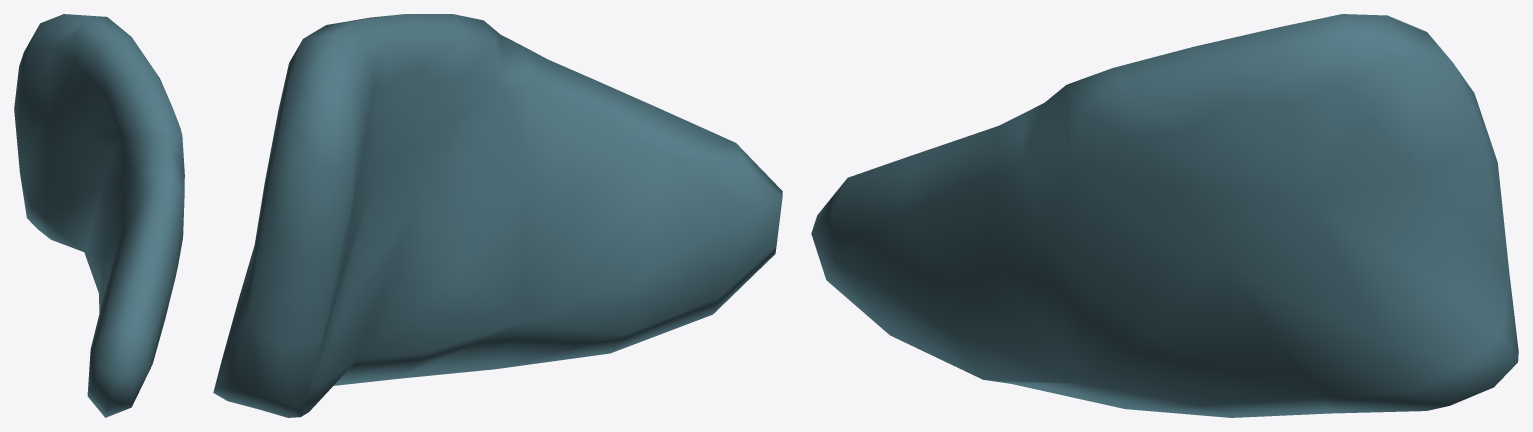
File: Proximal_phalanx_3rd_toe_right_001.glb
3 renders of one model, left to right at view 1: azimuth 30°, elevation 25°; view 2: azimuth 150°, elevation 25°; view 3: azimuth 270°, elevation 25°, orthographic. The views are drawn at different scales.
Visible parts, largest first — view 1: Proximal_phalanx_of_3rd_finger_of_foot.r.001_Generated_Mesh_; view 2: Proximal_phalanx_of_3rd_finger_of_foot.r.001_Generated_Mesh_; view 3: Proximal_phalanx_of_3rd_finger_of_foot.r.001_Generated_Mesh_.
Part boxes in pixels (box(x1,y1,x2,y2)): Proximal_phalanx_of_3rd_finger_of_foot.r.001_Generated_Mesh_: box(14, 14, 184, 417); Proximal_phalanx_of_3rd_finger_of_foot.r.001_Generated_Mesh_: box(213, 14, 782, 417); Proximal_phalanx_of_3rd_finger_of_foot.r.001_Generated_Mesh_: box(811, 14, 1518, 417).
Size of the model in its own units: 0.00168 by 0.00226 by 0.00334.
